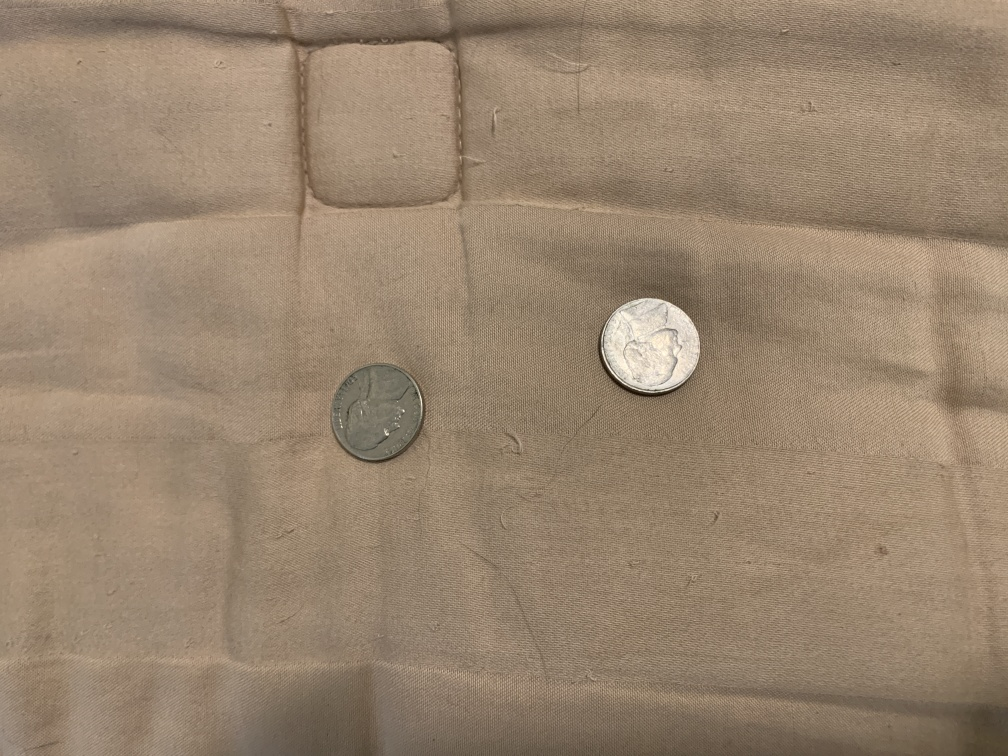nickel: (593, 294, 705, 400), (322, 358, 427, 470)
